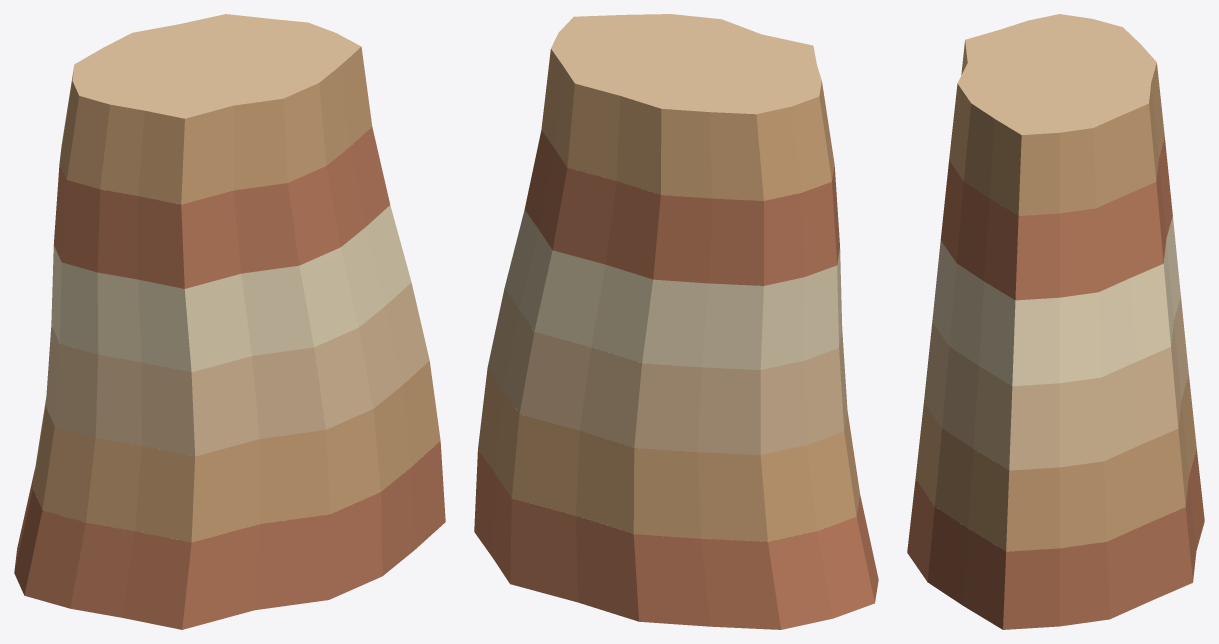
The model's file is desert-canyons-and-oases-banded-block-3-56cc3644__20934.glb.
The picture shows the model from 3 angles, left to right: view 1: azimuth 30°, elevation 25°; view 2: azimuth 150°, elevation 25°; view 3: azimuth 270°, elevation 25°; orthographic projection. The views are drawn at different scales.
Visible parts, largest first — view 1: banded-block-3; view 2: banded-block-3; view 3: banded-block-3.
Boxes of the visible parts, x1,y1,x2,y2 form: banded-block-3: [14, 14, 445, 629]; banded-block-3: [474, 14, 878, 629]; banded-block-3: [907, 14, 1204, 629].
Bounding box in the file's own units: 2.69 × 3.2 × 1.87.
